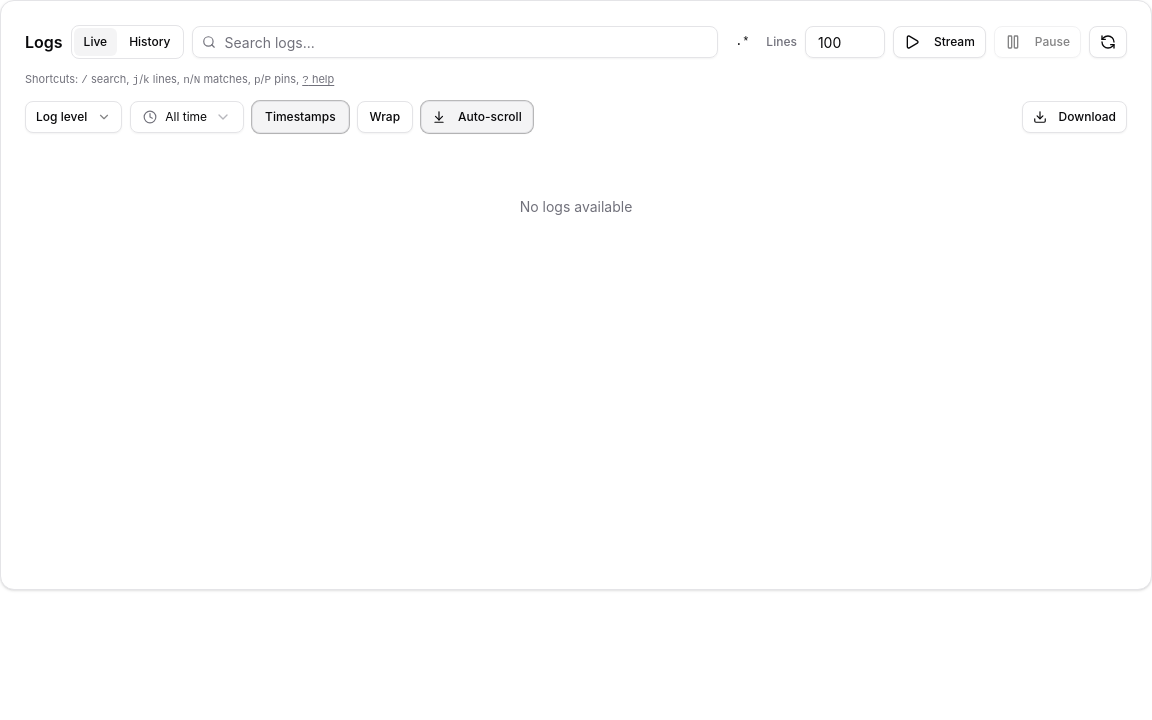
Test: LogViewer history mode › appends an older page when Load older is clicked
The width and height of the screenshot is (1152, 720).
Expected: the button "Live" is shown, [74,28,117,56]
Click the button "History": (150, 42) [119,28,180,56]
Wait 1 ms
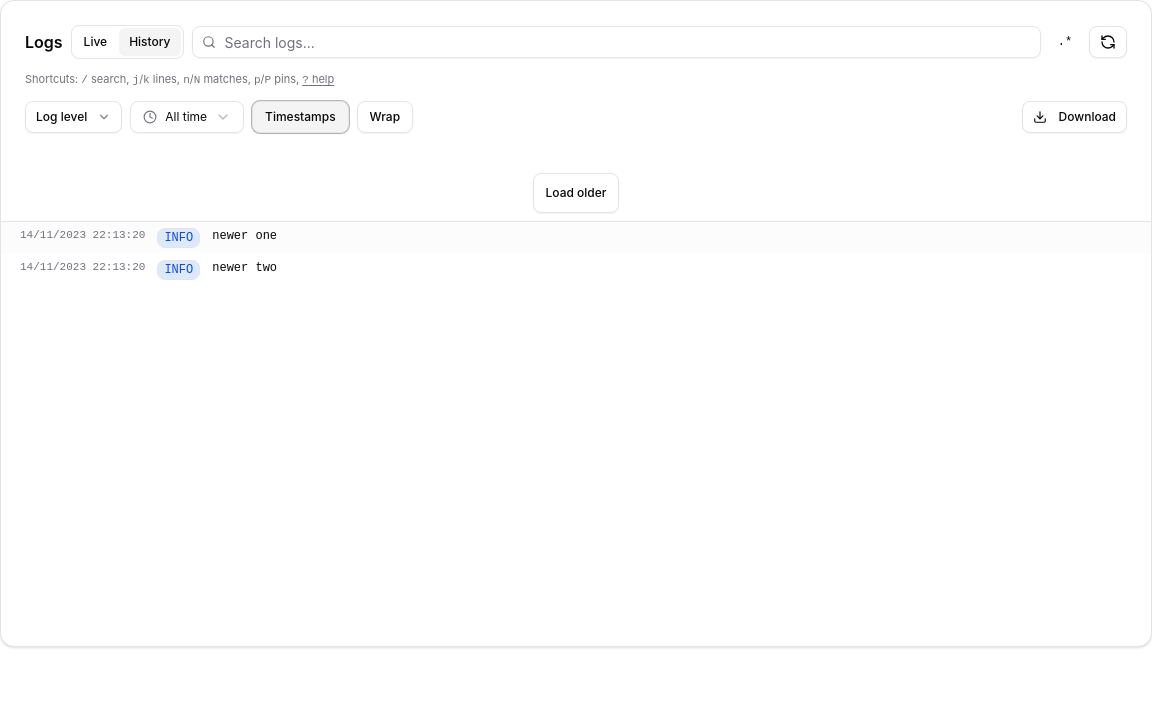
Expected: the text "older one" is not shown
Click the button "Load older": (576, 192) [532,172,620,212]
Wait 1 ms
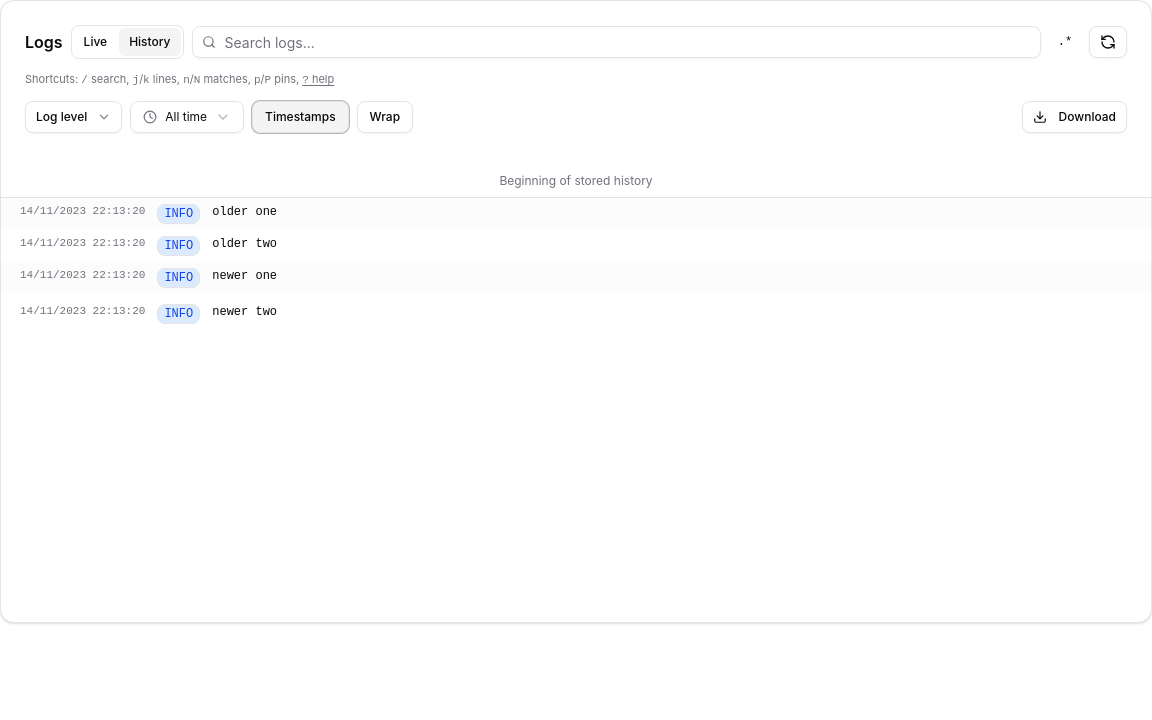
Expected: the text "newer one" is shown, [212,268,277,282]
Expected: the text "older one" is shown, [212,204,277,218]
Expected: the text "Beginning of stored history" is shown, [499,172,653,188]
